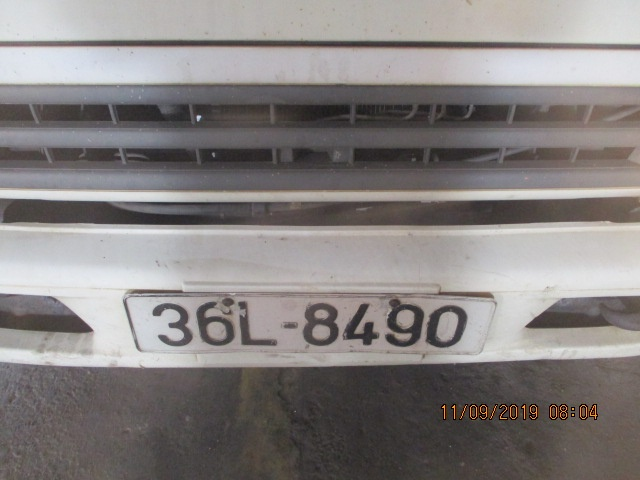number_plate: (137, 297, 463, 350)
